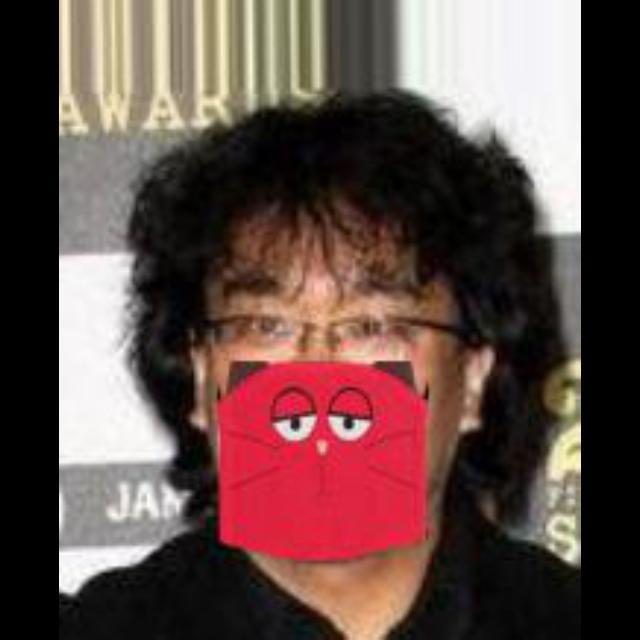suspicion: (137, 138, 509, 542)
